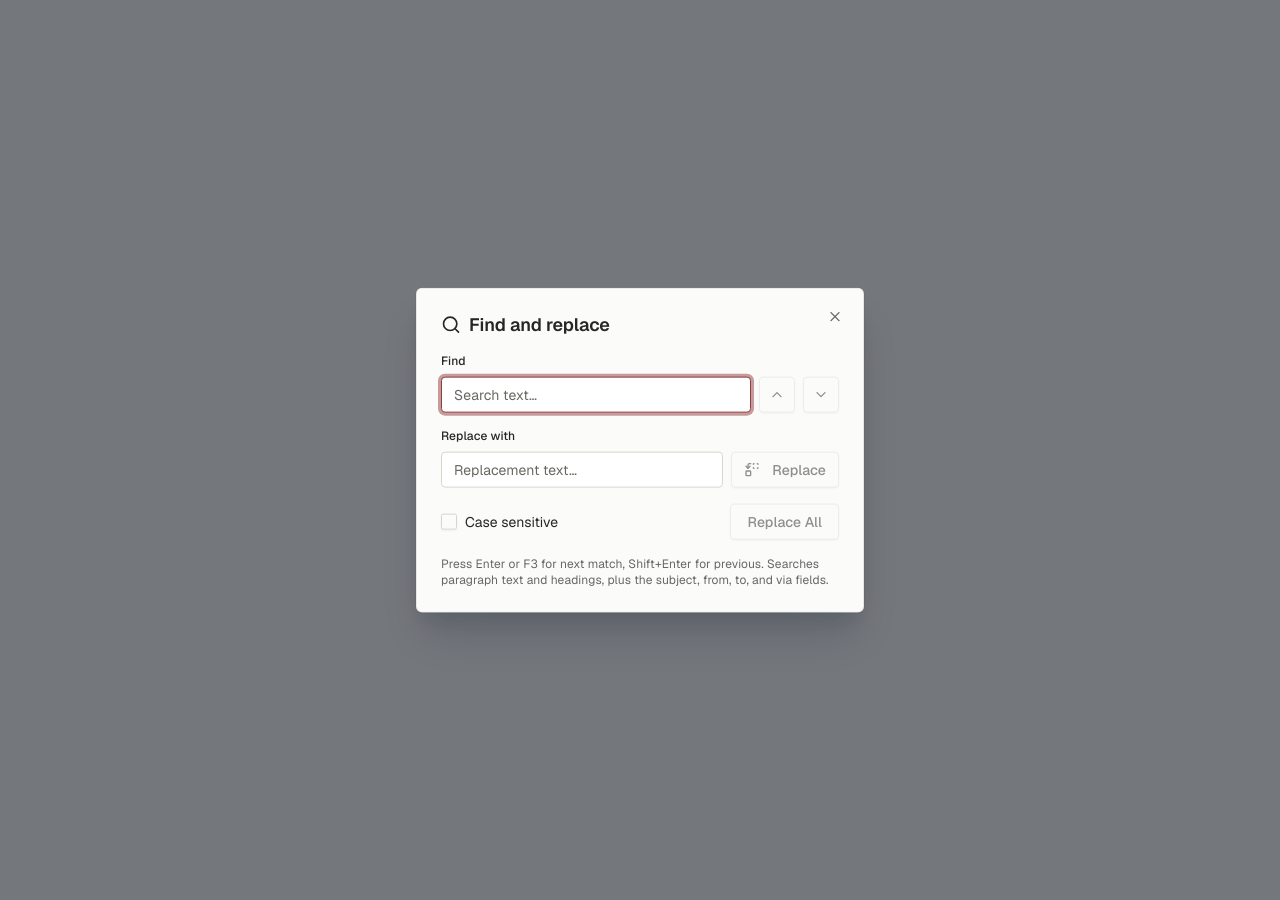
find and replace scope › keeps the selected match valid when replacing the last match
This screenshot has width=1280, height=900.
Step 1. Type "alpha" into the field labelled "Find" → [596, 394], box [441,376,751,412]
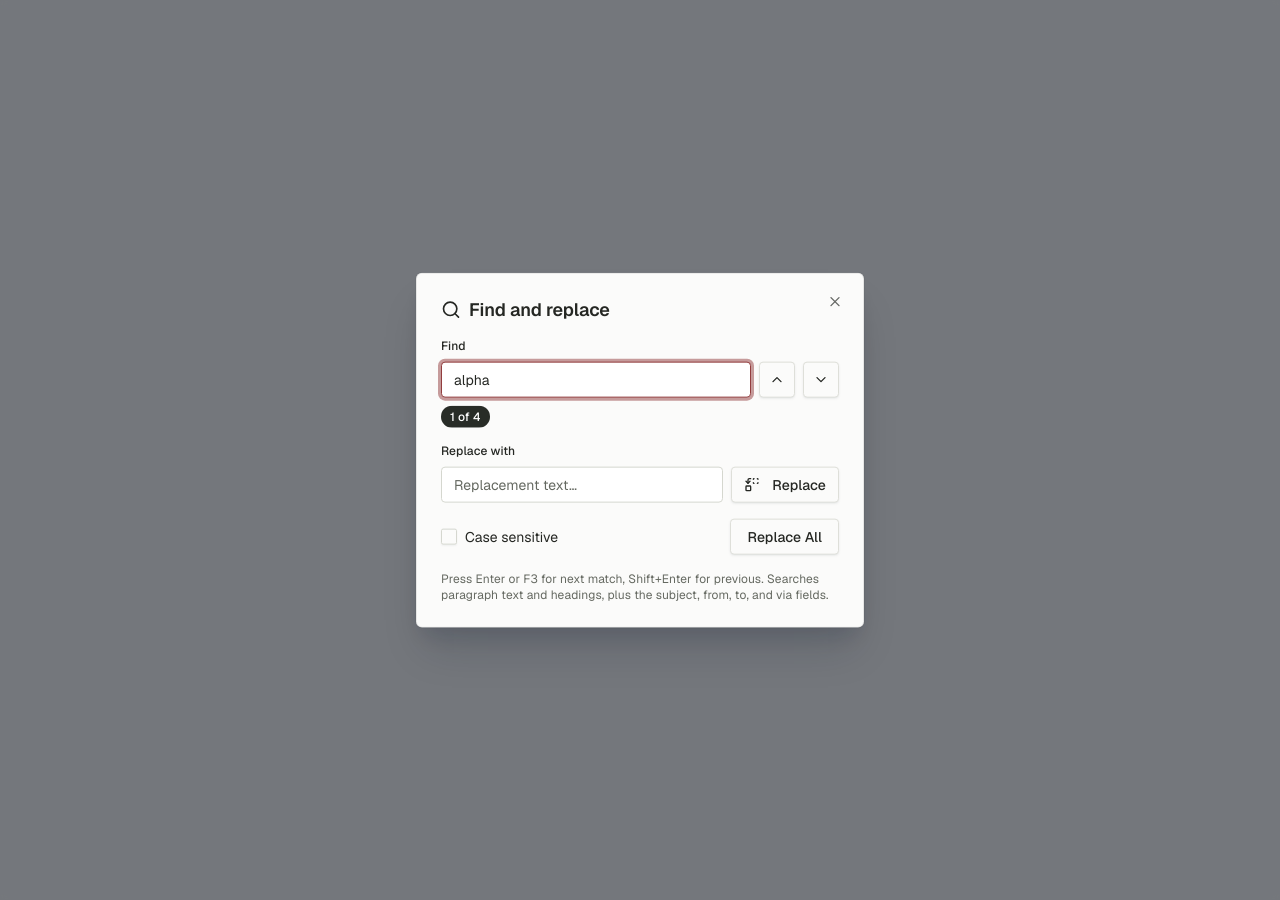
Step 2. Type "$& done" into the field labelled "Replace with" → [582, 484], box [441,466,723,502]
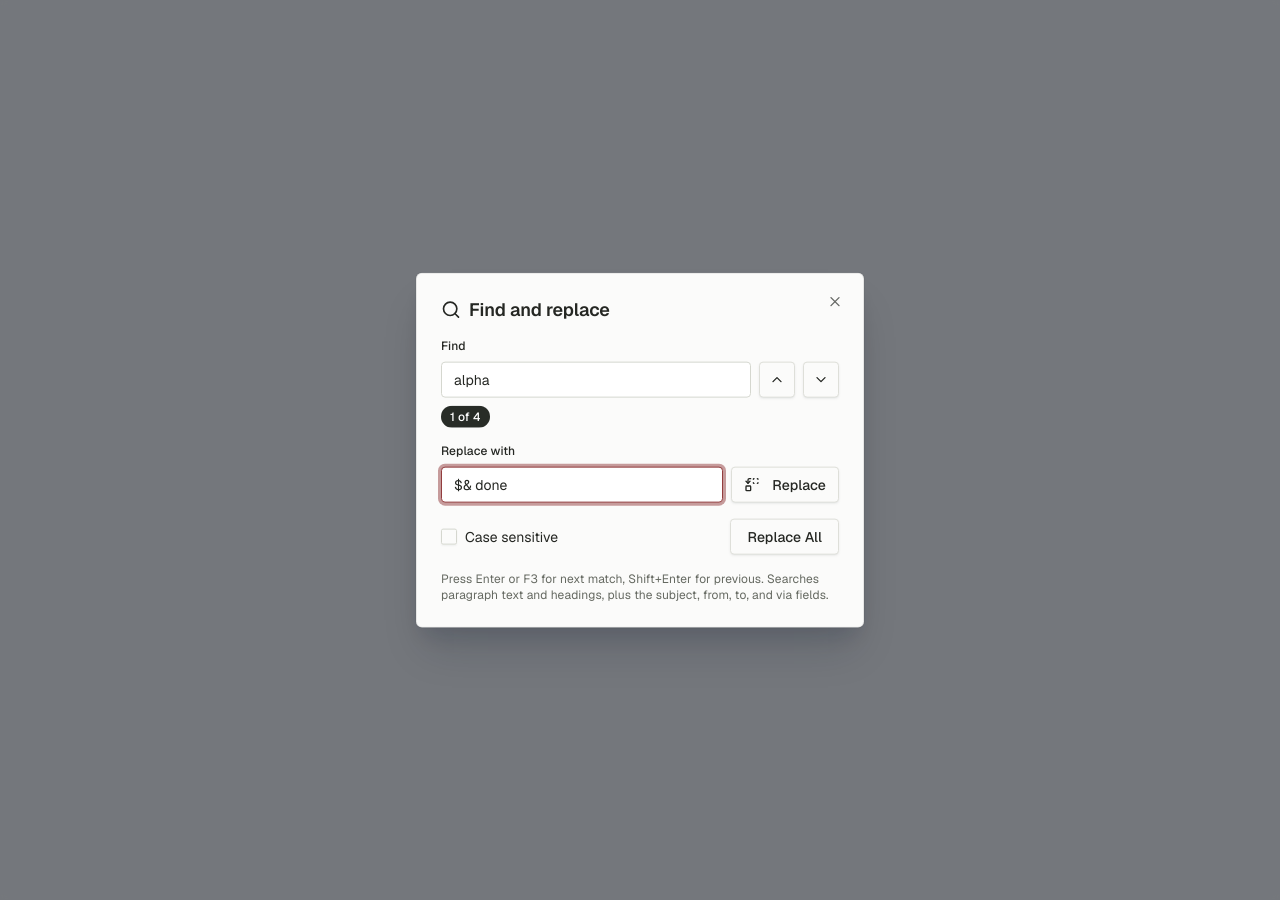
Step 3. Click the button named "Previous match" → [777, 379], box [759,361,795,397]
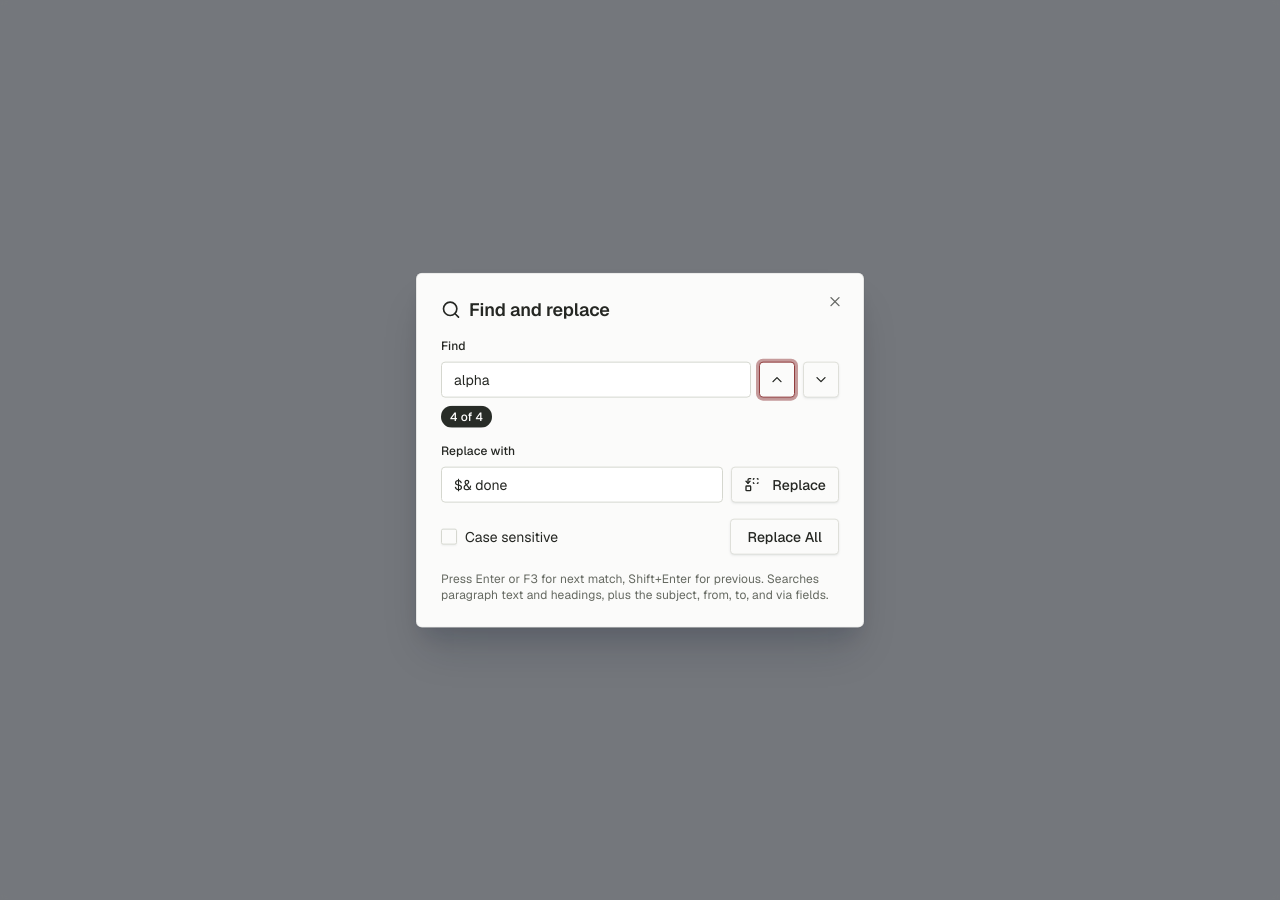
Now the text "4 of 4" is shown, box [441,405,492,427]
Step 4. Click the button "Replace" → [785, 484], box [731,466,839,502]
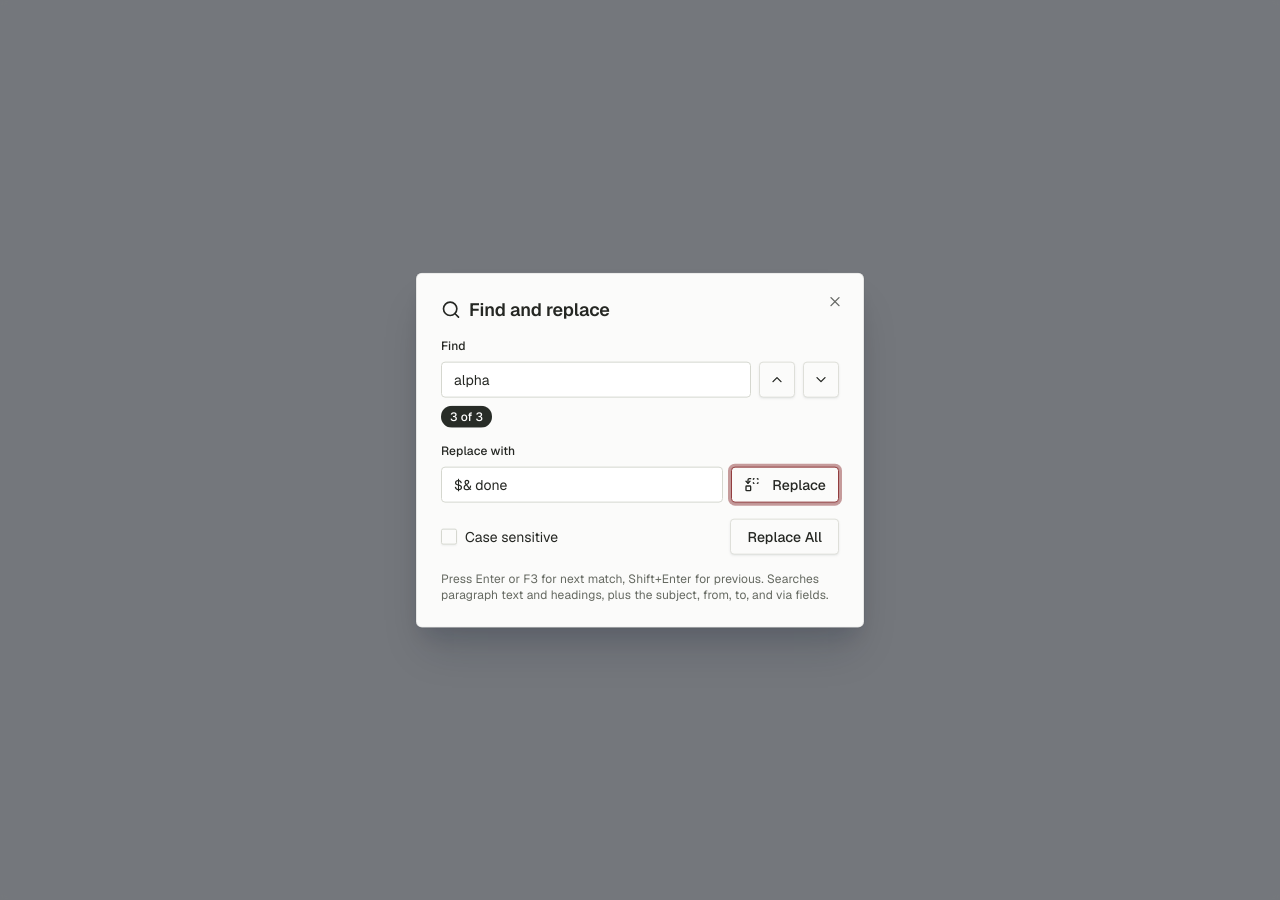
Now the text "3 of 3" is shown, box [441,405,492,427]
Step 5. Click the button "Replace" → [785, 484], box [731,466,839,502]
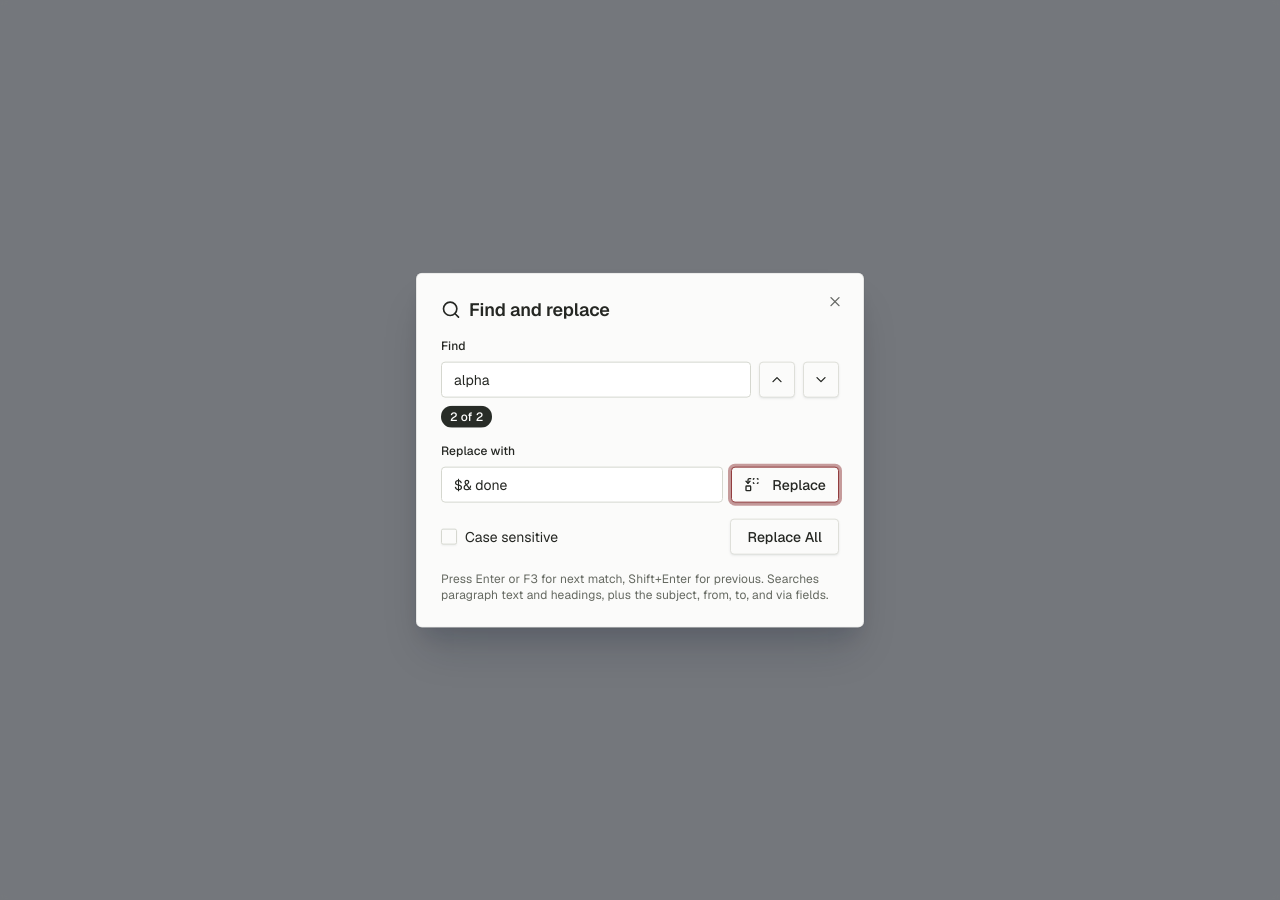
Now the text "2 of 2" is shown, box [441,405,492,427]
